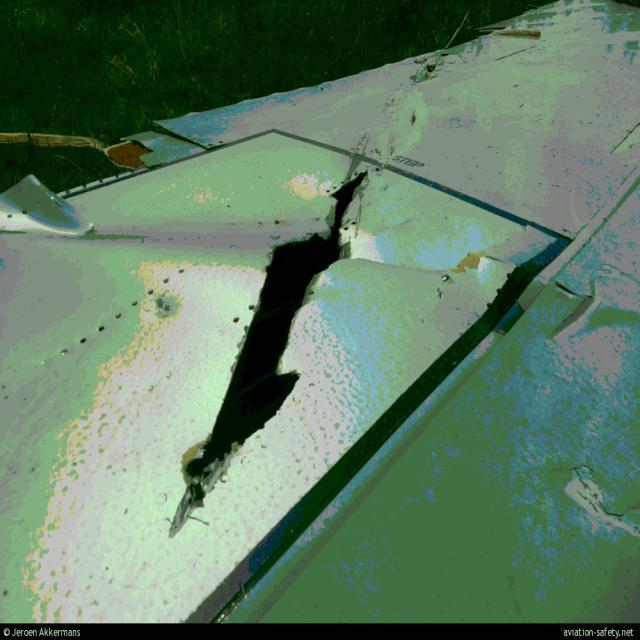crack: (168, 169, 374, 544)
